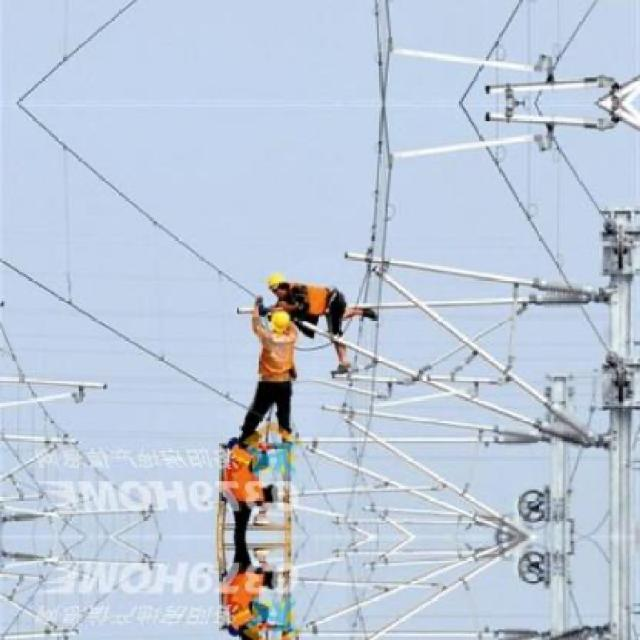con casco: (260, 312, 302, 336), (261, 266, 287, 292)
